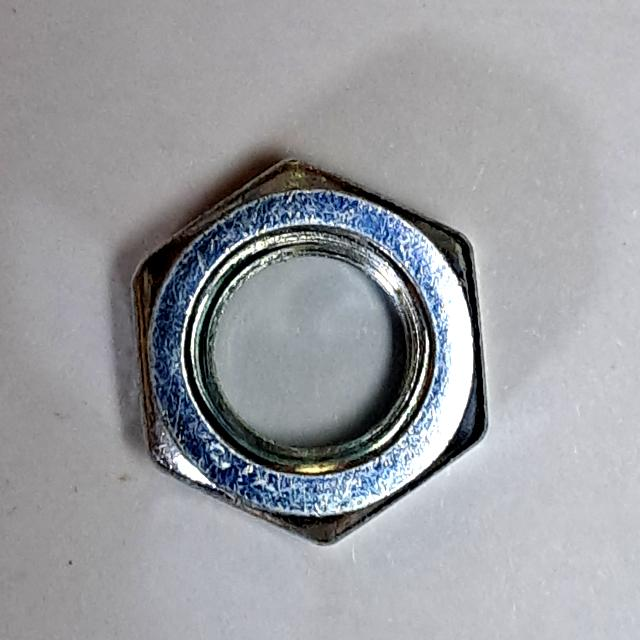Excellent: (113, 141, 505, 555)
